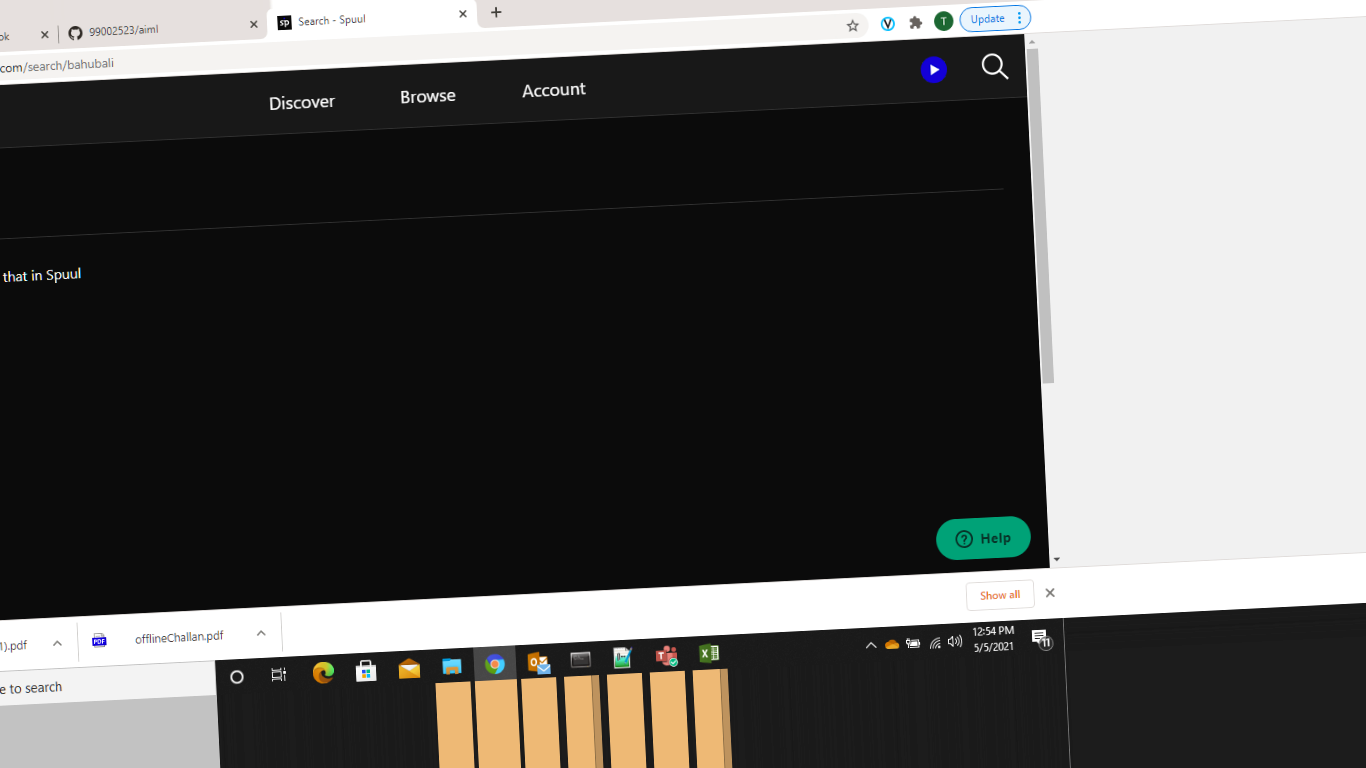myaccountbutton: (496, 67, 635, 116)
noresultsfound: (1, 261, 98, 300)
searchicon: (972, 49, 1016, 89)
